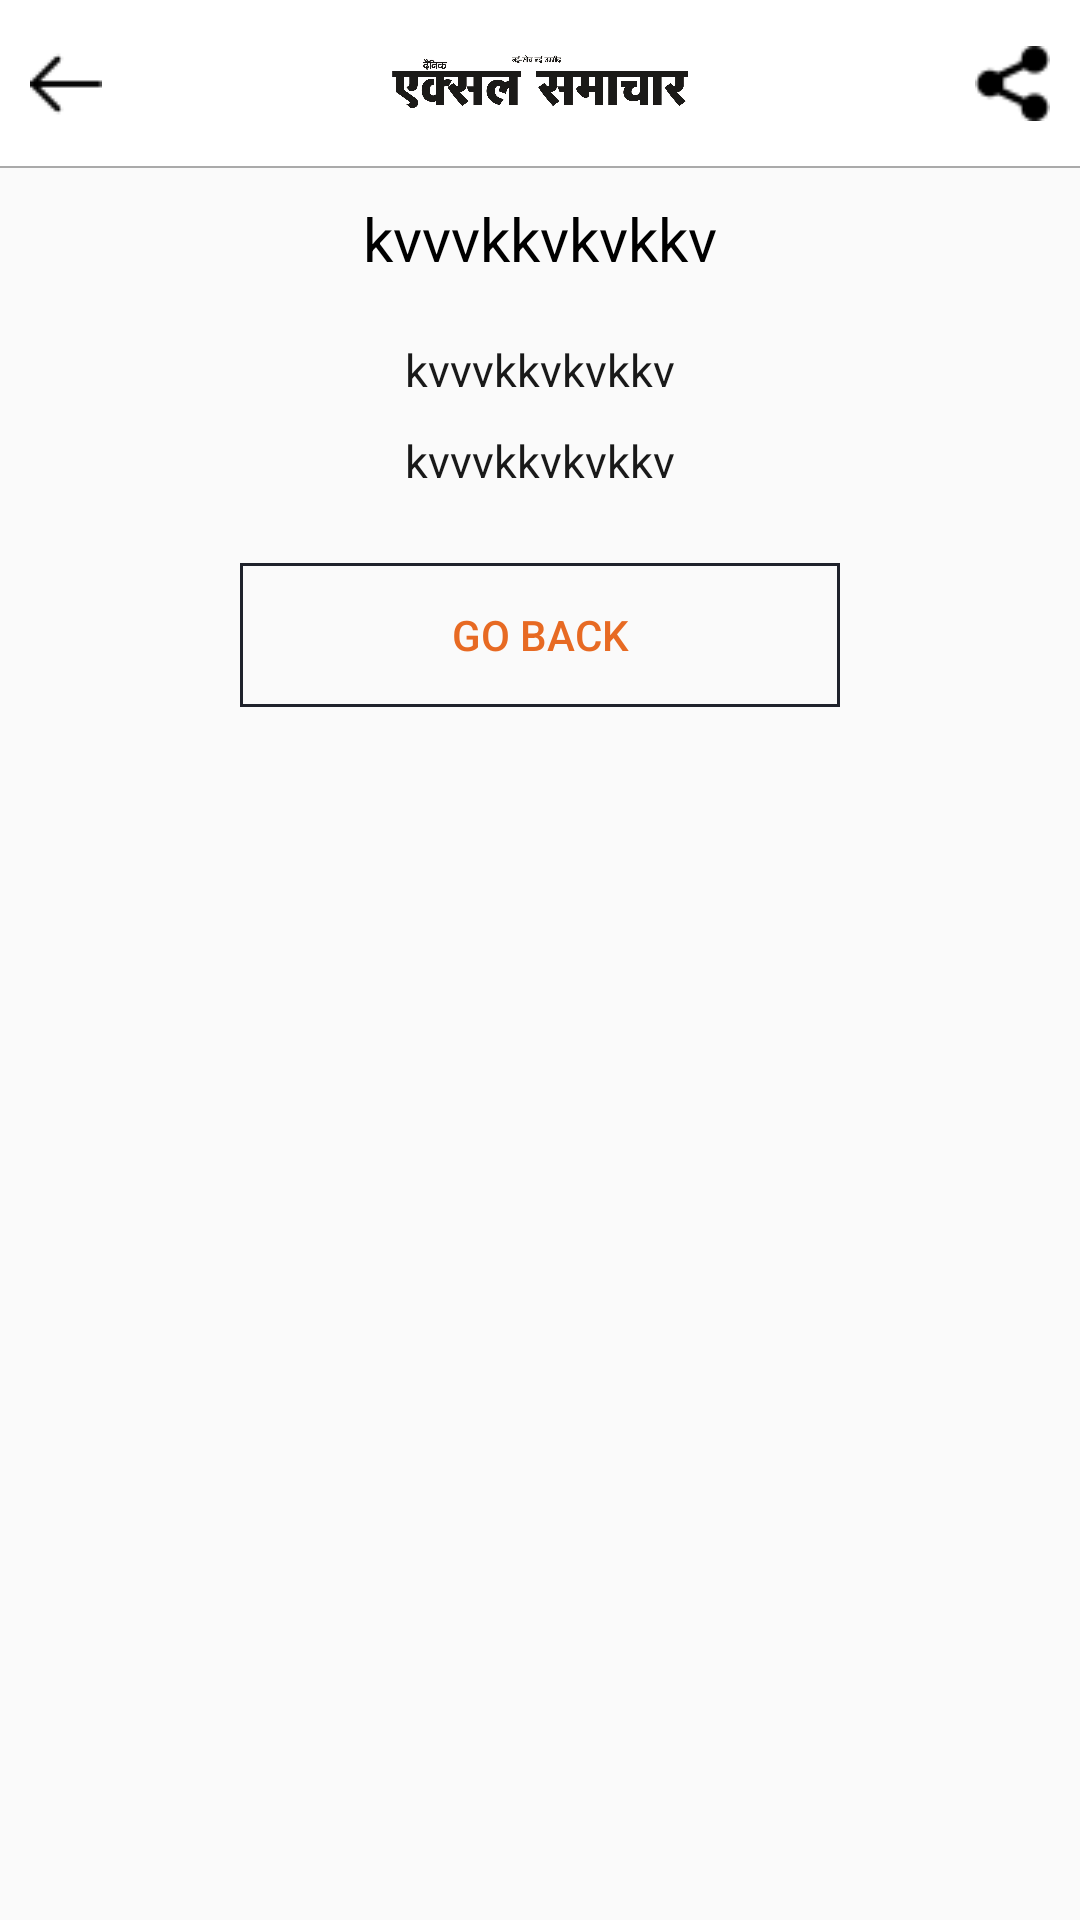

Locate icon controls on the screen. Image size 1080×1920, boxes as {"x1": x1, "y1": y1, "x2": x2, "y2": y2}.
leftarrow: {"x1": 30, "y1": 55, "x2": 102, "y2": 113}
share: {"x1": 975, "y1": 46, "x2": 1050, "y2": 121}
